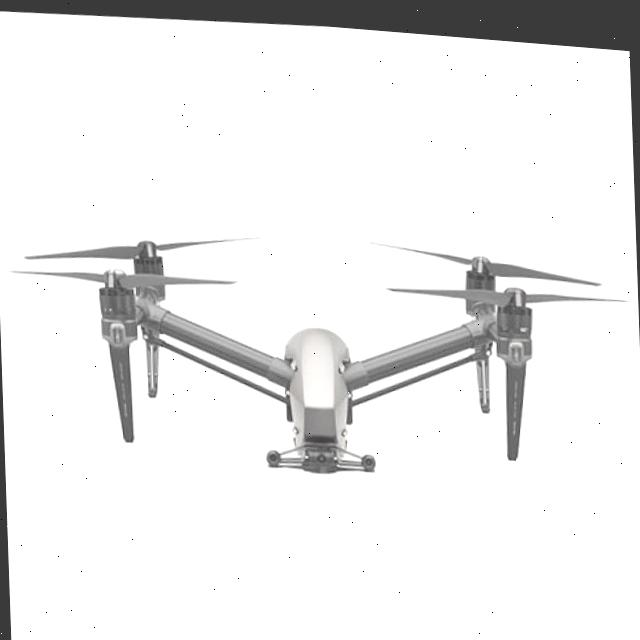drone: (12, 188, 632, 494)
